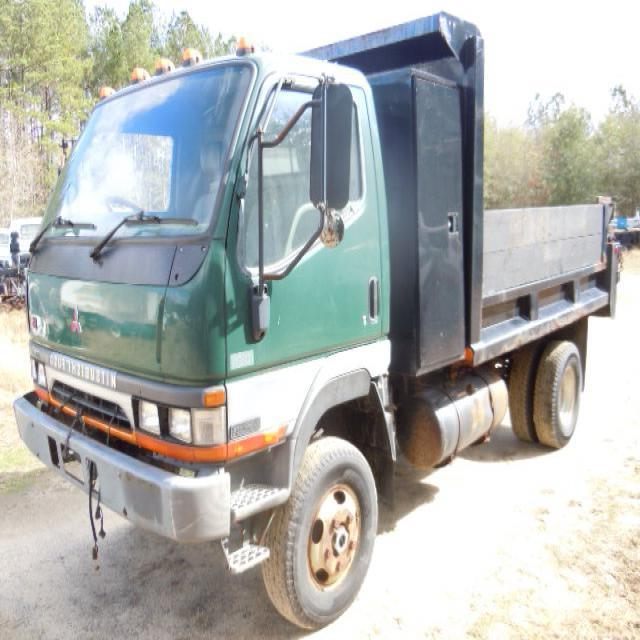truck: (13, 4, 624, 631)
